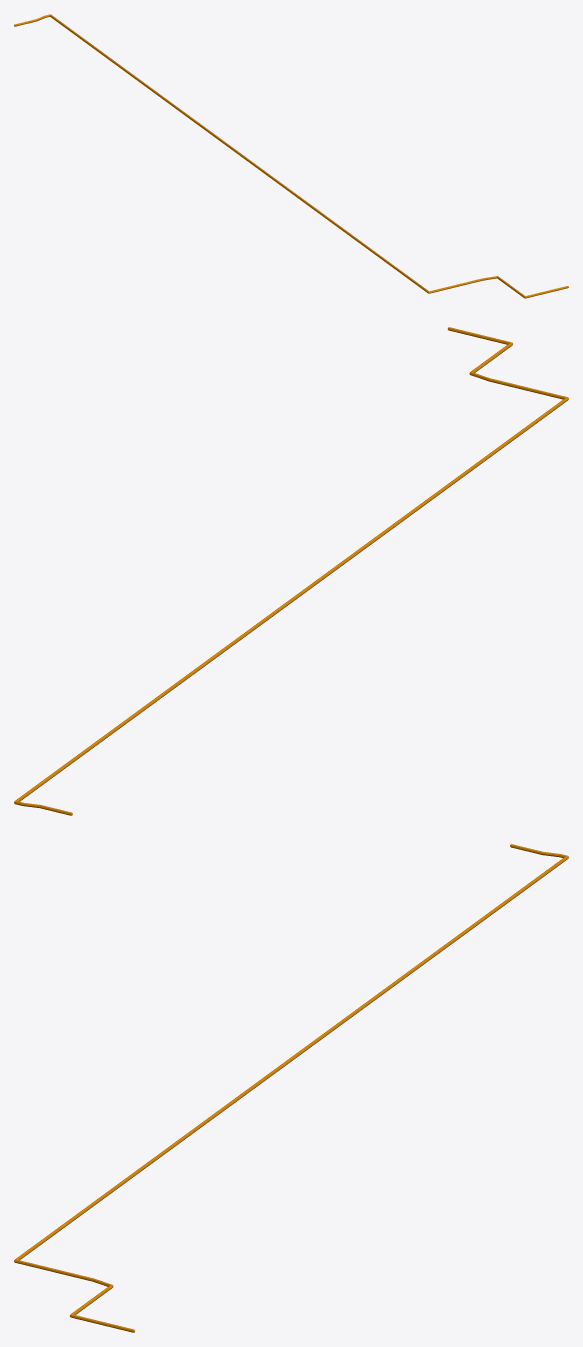
3 views of the same model, one above another, from view 1: azimuth 30°, elevation 25°; view 2: azimuth 150°, elevation 25°; view 3: azimuth 330°, elevation 25° (orthographic). The views are drawn at different scales.
Size of the model in its own units: 1394 by 20 by 6641.
